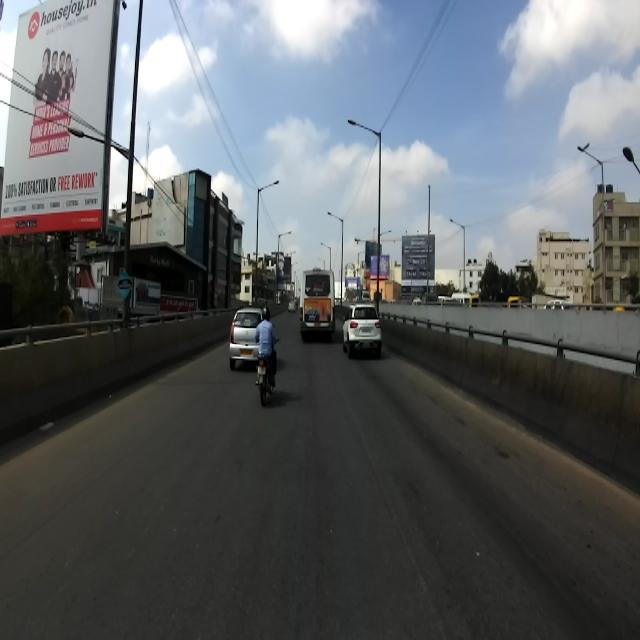bus ahead at: (294, 264, 338, 344)
car ahead at: (219, 299, 273, 370), (344, 299, 382, 356)
motorcycle ahead at: (252, 352, 276, 412)
